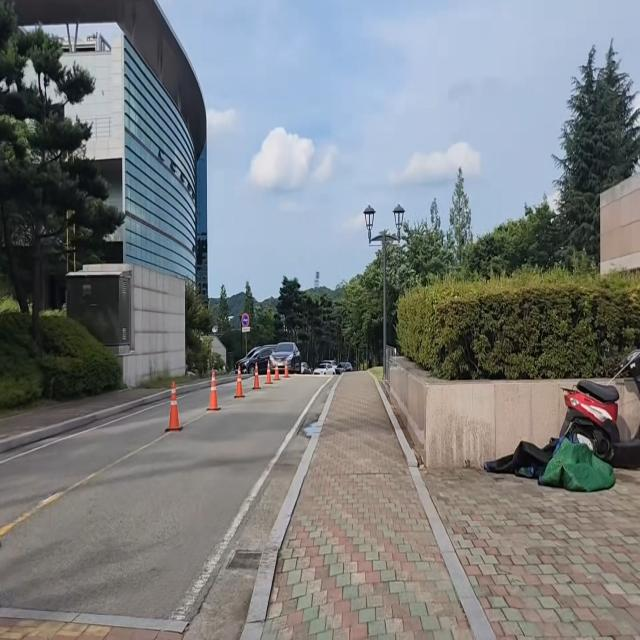obstacle: (557, 336, 640, 477), (161, 370, 193, 443), (200, 357, 228, 415)
road: (0, 372, 337, 640)
sidewalk: (242, 373, 640, 640)
